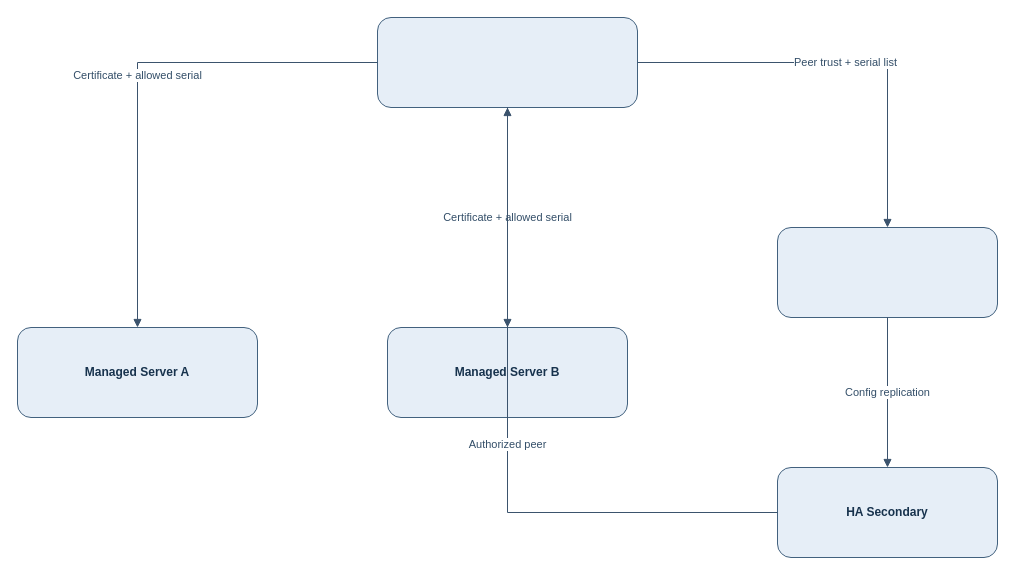
Some shapes in this 1015 by 575 pixel diagram are drawn without their labels. Each missing label, with the centre of its shape:
HA Primary: [887,272]
Manager: [507,62]
